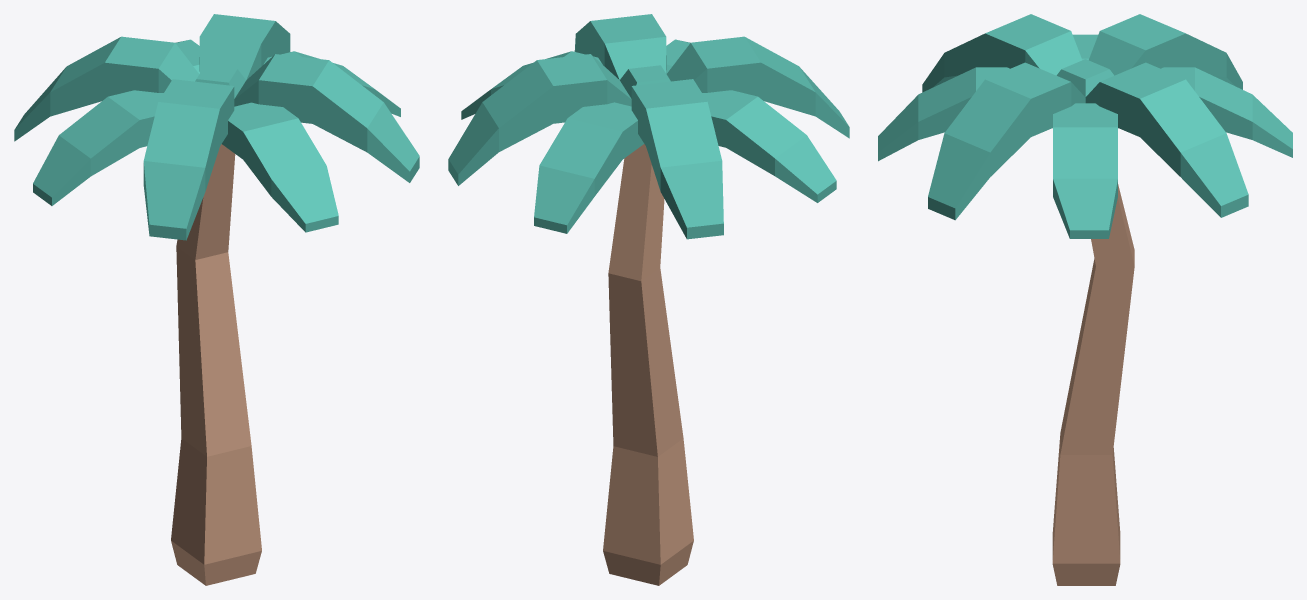
File: tree_palmDetailedTall.glb
3 renders of one model, left to right at view 1: azimuth 30°, elevation 25°; view 2: azimuth 150°, elevation 25°; view 3: azimuth 270°, elevation 25°, orthographic.
Visible parts, largest first — view 1: tree_palmDetailedTall; view 2: tree_palmDetailedTall; view 3: tree_palmDetailedTall.
Boxes of the visible parts, <box> form: tree_palmDetailedTall: <box>14,14,419,585</box>; tree_palmDetailedTall: <box>448,14,849,585</box>; tree_palmDetailedTall: <box>878,14,1292,585</box>.
Size of the model in its own units: 1.03 by 1.42 by 1.03.
